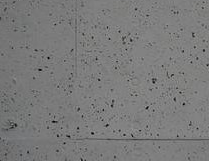Spalling: (1, 1, 209, 161)
